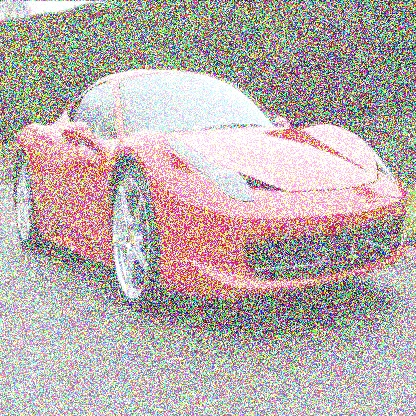Vehicle: (11, 61, 411, 318)
